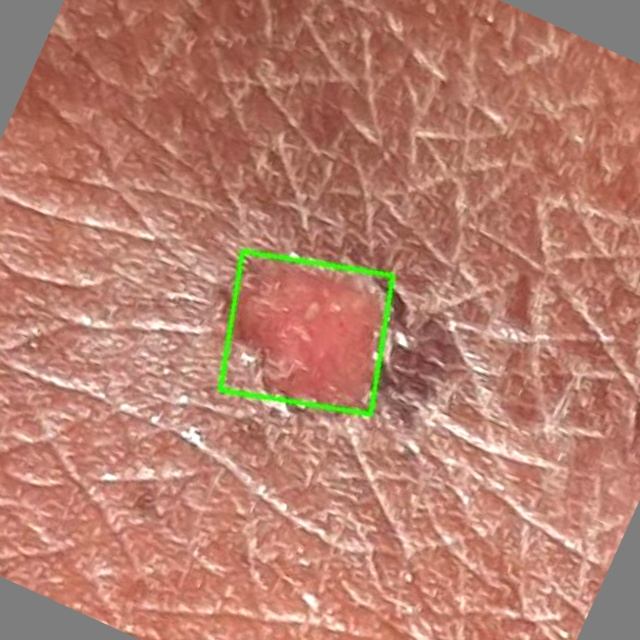Contact Dermatitis: (219, 252, 391, 414)
